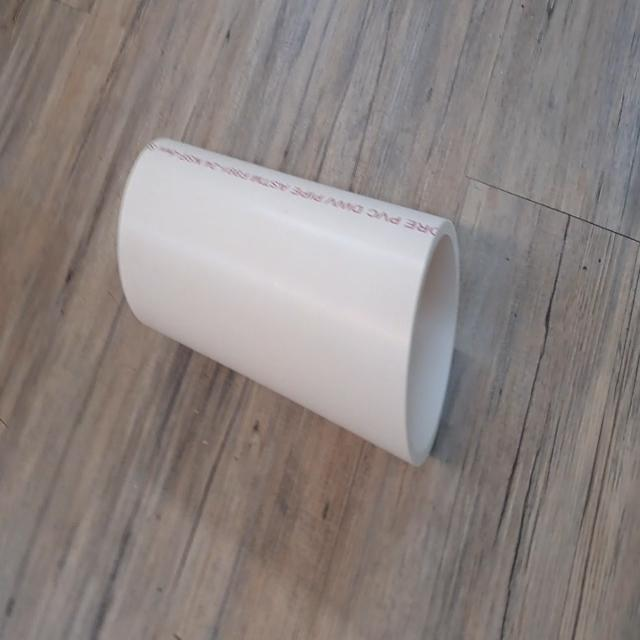CORAL: (114, 129, 466, 476)
